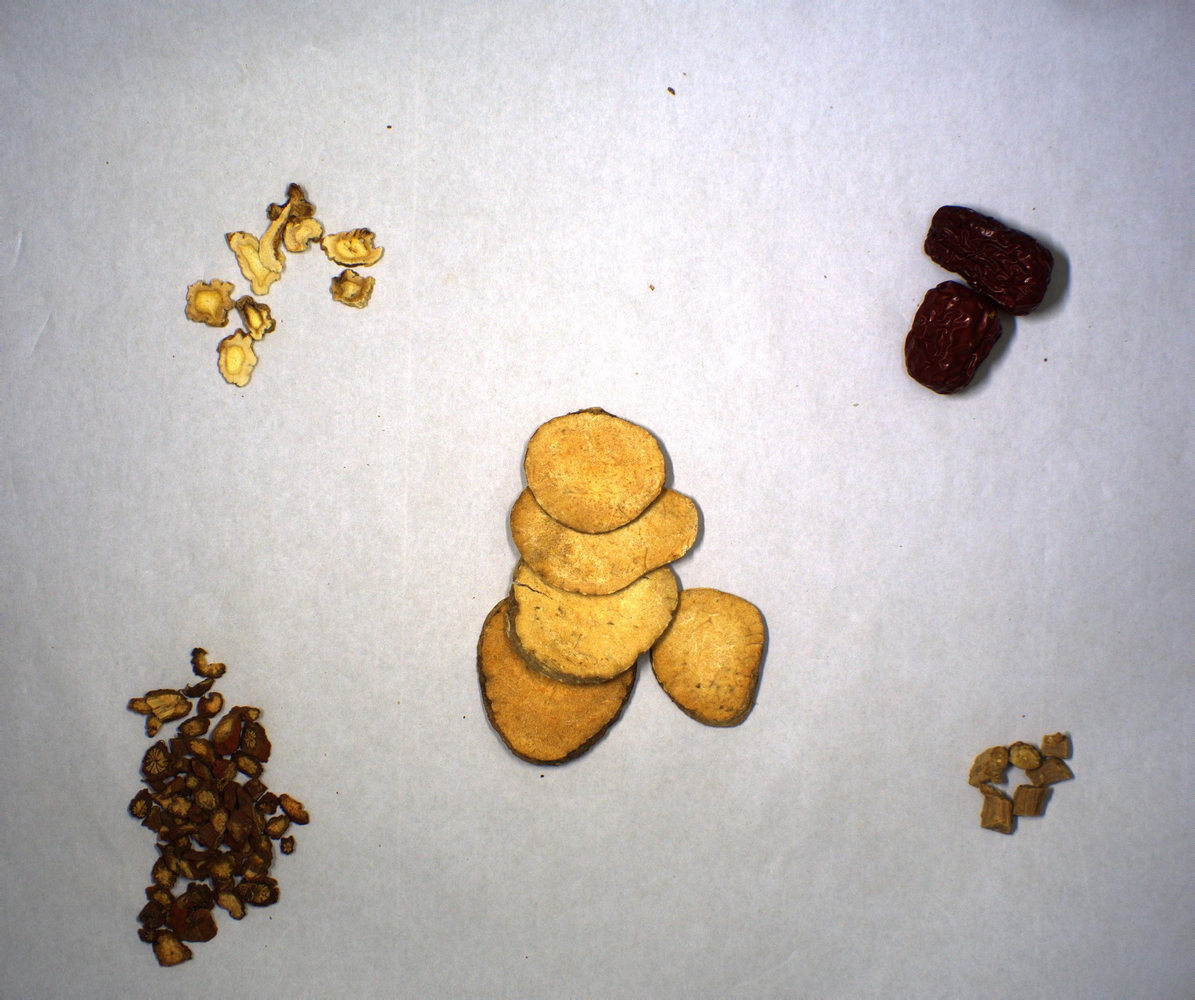danshen: (127, 646, 314, 969)
dazao: (904, 200, 1058, 403)
jiegeng: (185, 183, 382, 393)
niuxi: (966, 729, 1076, 835)
zexie: (467, 408, 774, 775)
